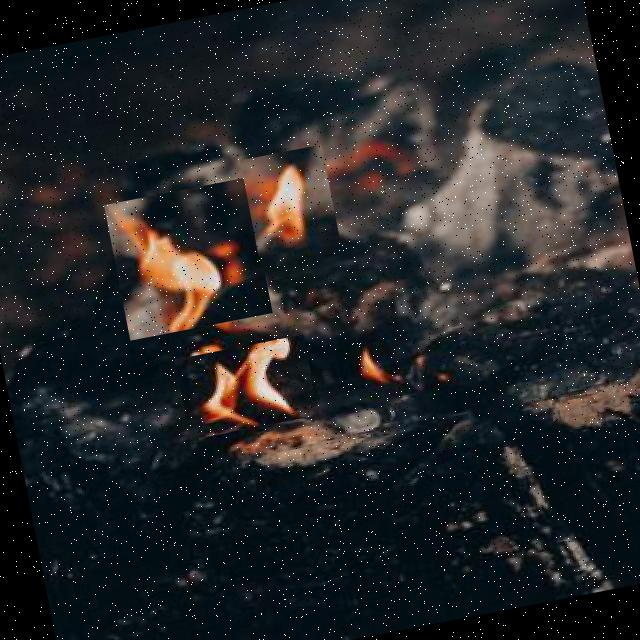fire: (104, 178, 273, 340), (175, 334, 319, 440), (240, 144, 340, 256), (356, 338, 402, 399)
